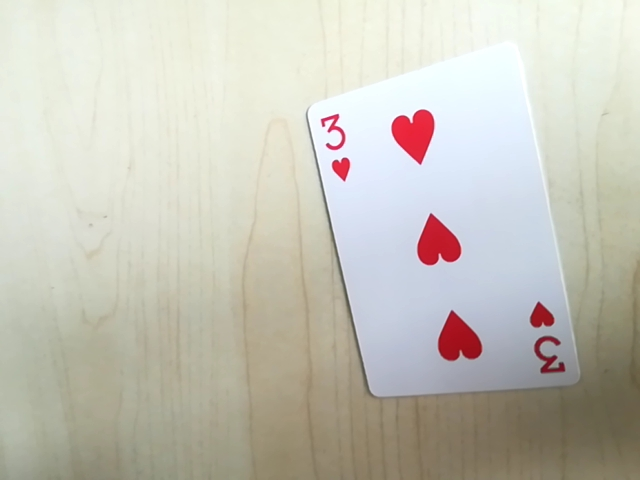hx 3: (520, 297, 572, 379), (315, 101, 354, 177)
